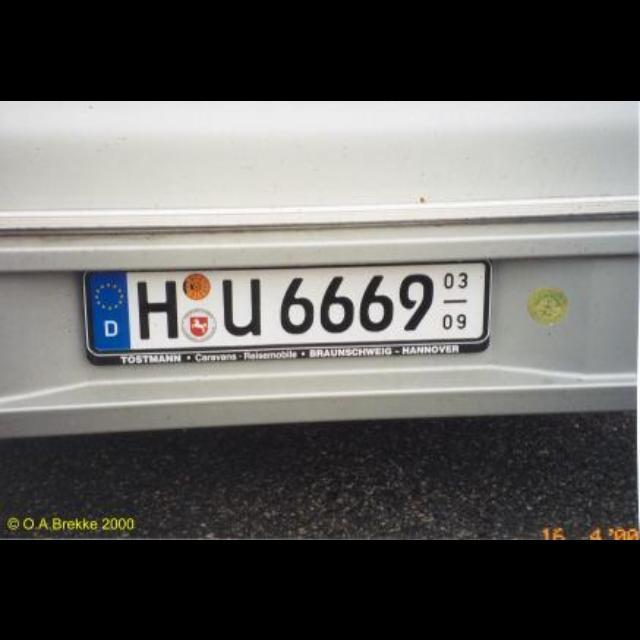license-plates: (84, 262, 491, 364)
